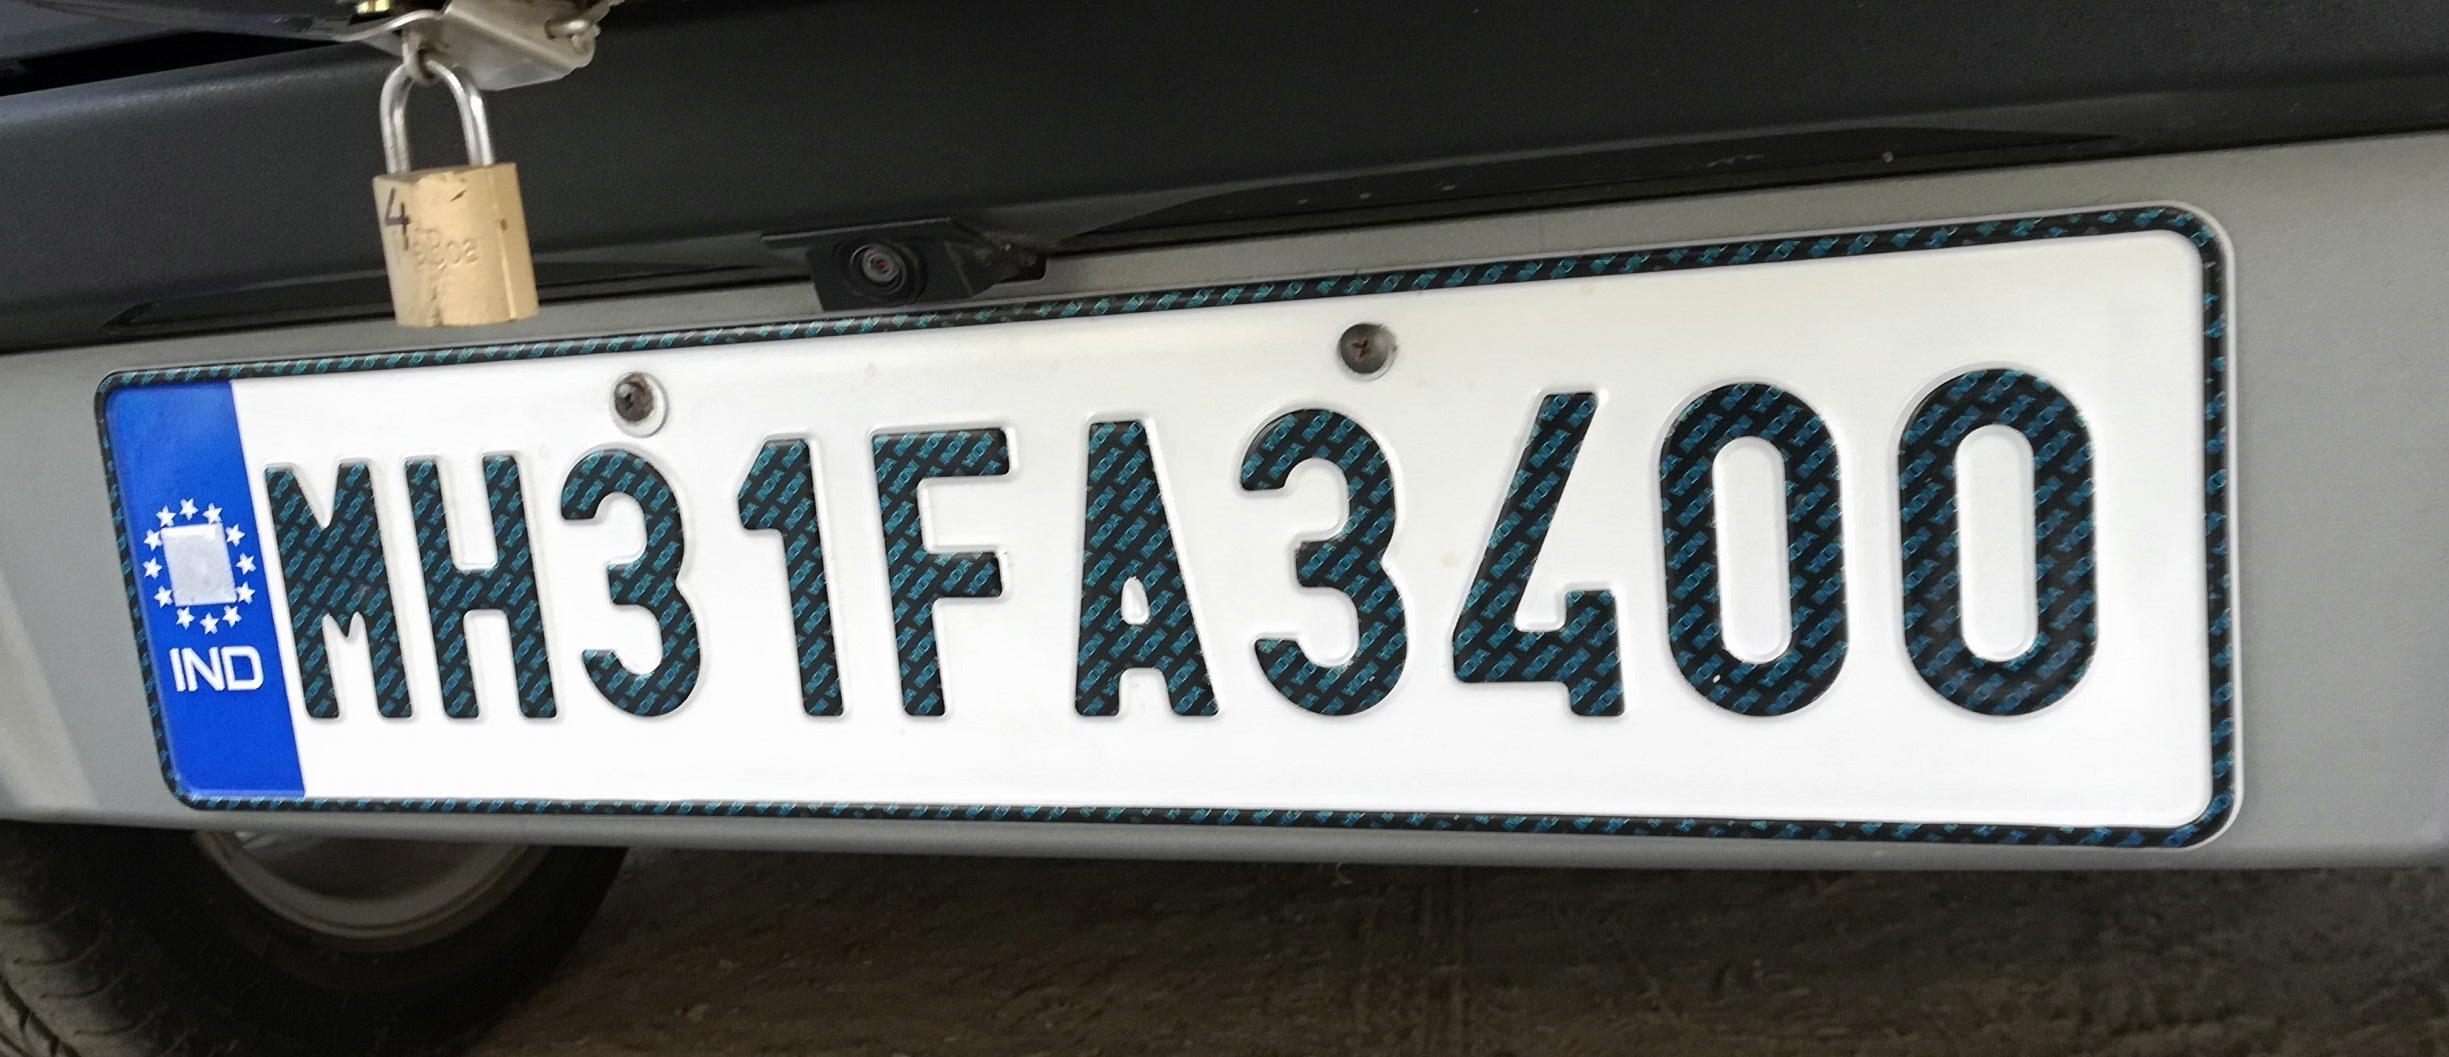numberplate: (97, 215, 2287, 877)
